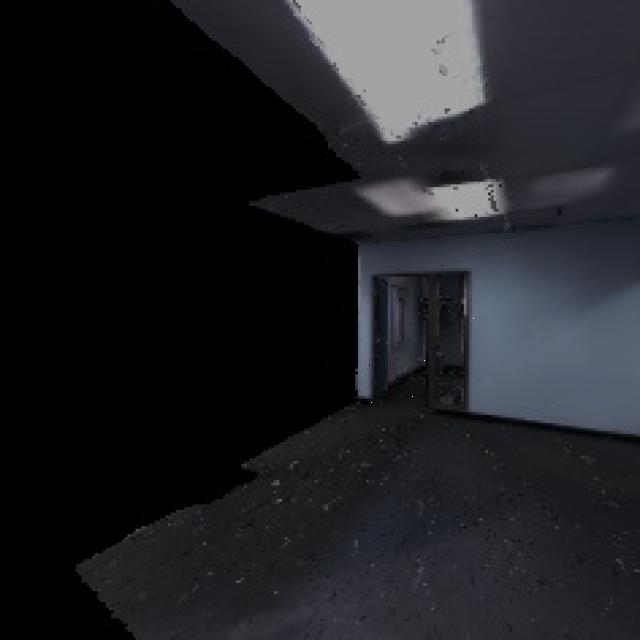door-frame: (369, 257, 481, 452)
